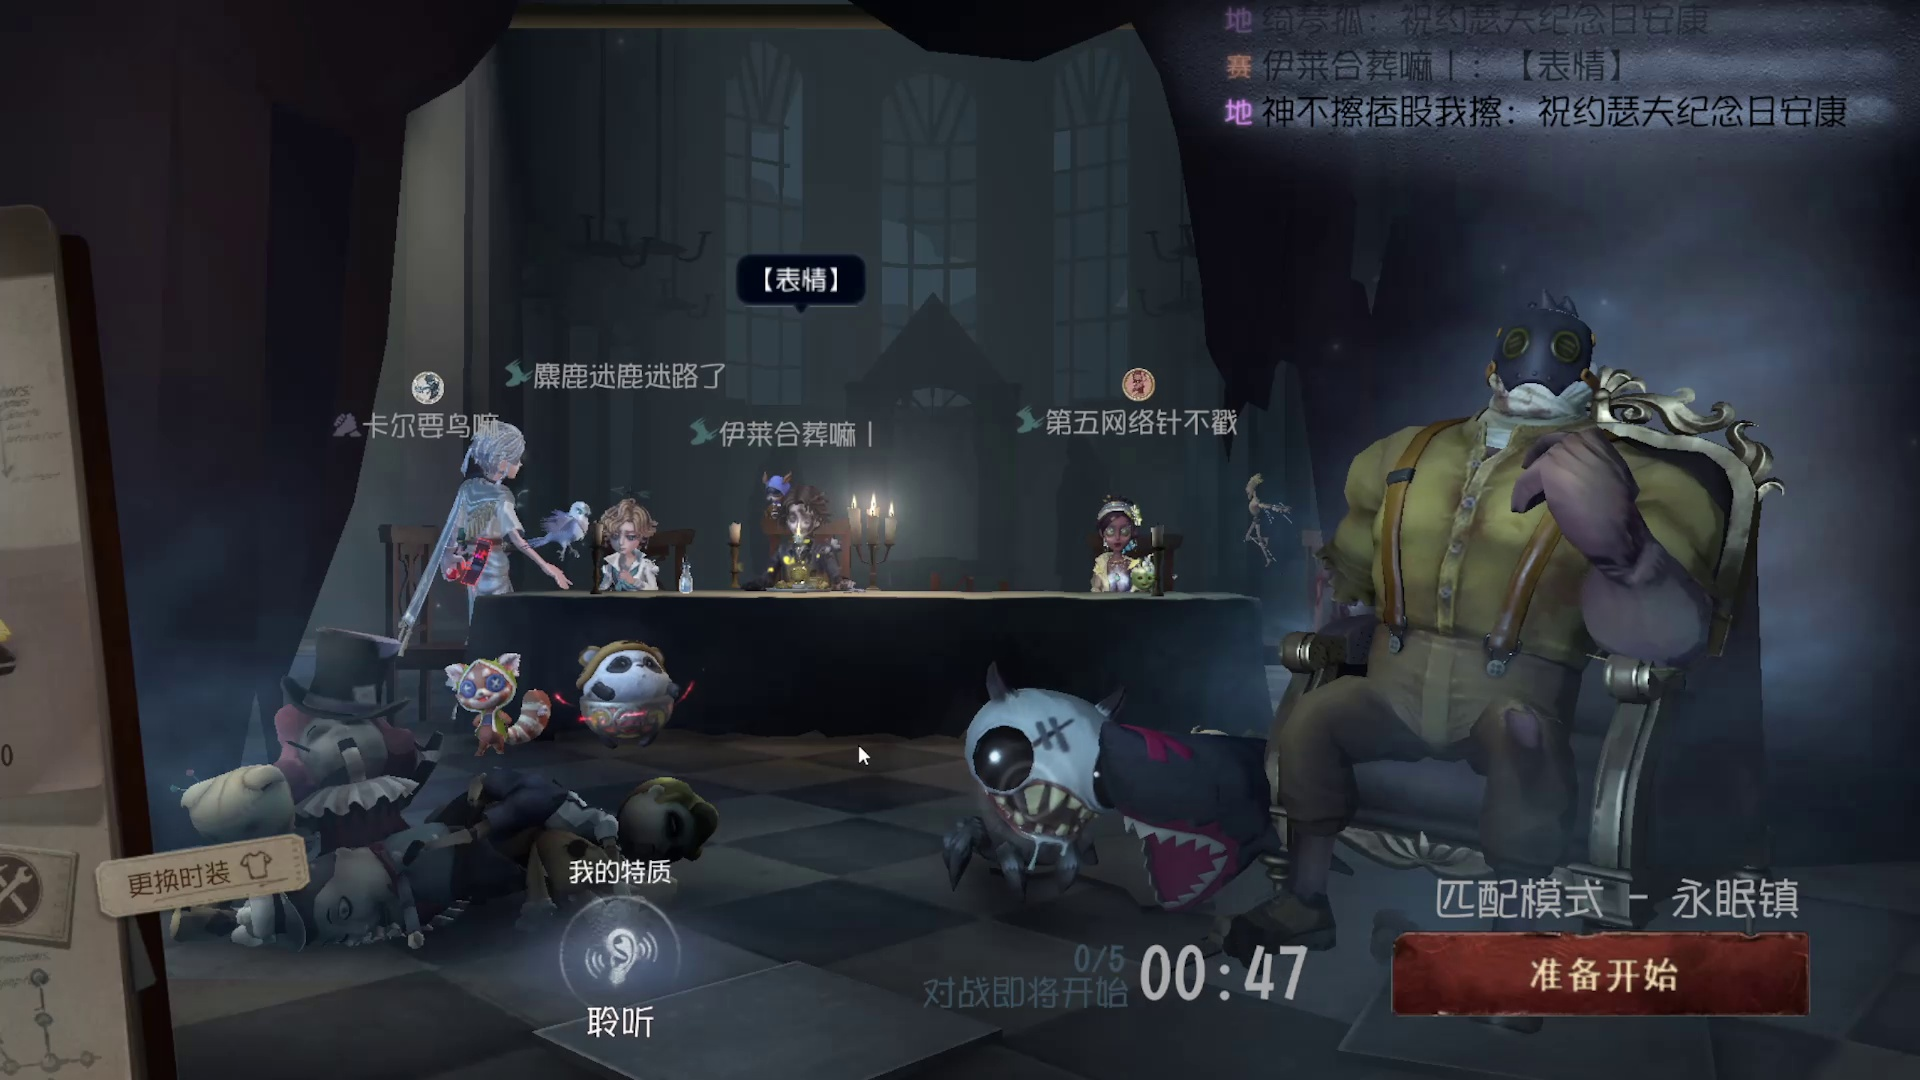准备开始: (1366, 920, 1825, 1033)
